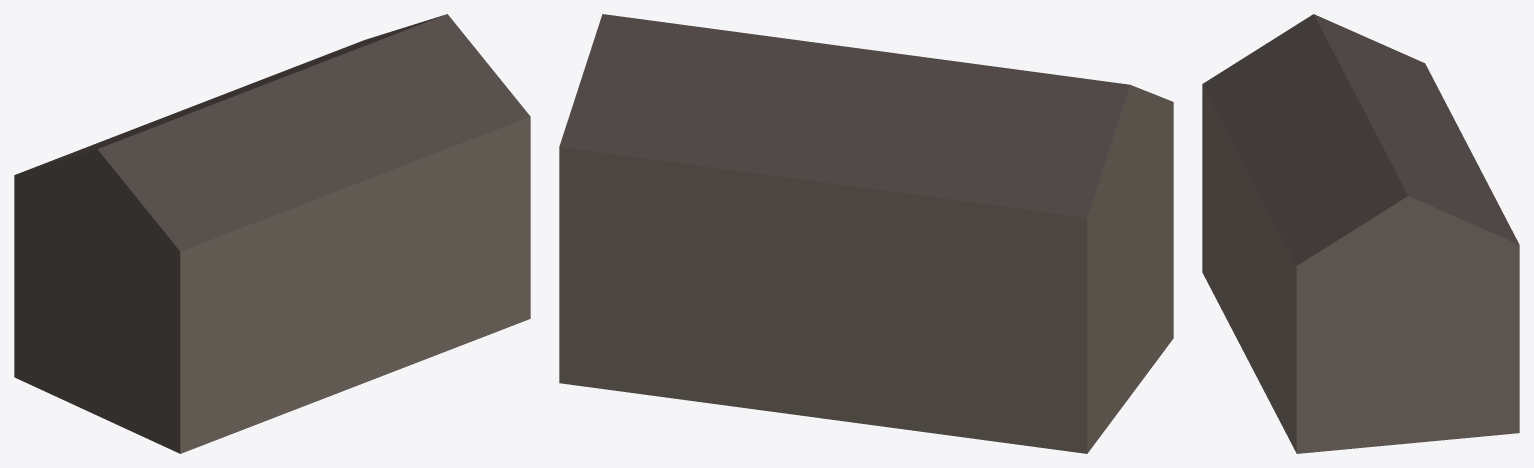
3 renders of one model, left to right at view 1: azimuth 30°, elevation 25°; view 2: azimuth 150°, elevation 25°; view 3: azimuth 270°, elevation 25°, orthographic. The views are drawn at different scales.
Visible parts, largest first — view 1: HP-w859424269; view 2: HP-w859424269; view 3: HP-w859424269.
Boxes of the visible parts, box(x1,y1,x2,y2) form: HP-w859424269: box(14, 14, 530, 453); HP-w859424269: box(559, 14, 1173, 453); HP-w859424269: box(1202, 14, 1519, 453).
Bounding box in the file's own units: 13.88 × 7.91 × 9.19.
